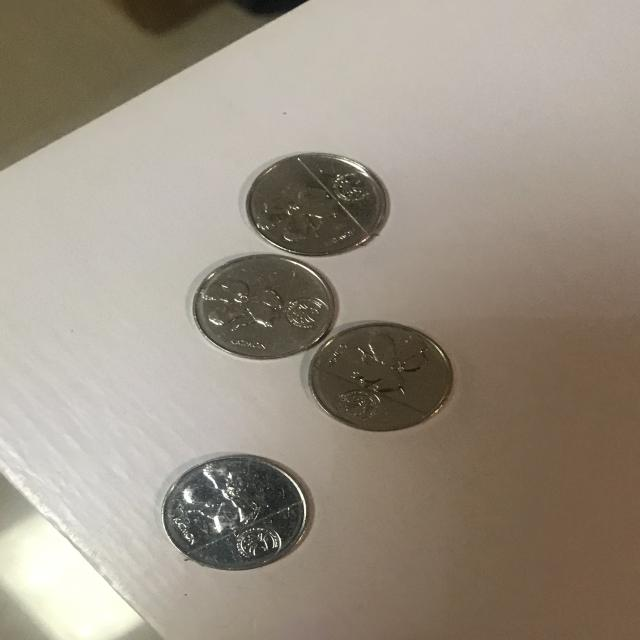25Cent_New_Back: (256, 161, 372, 245), (334, 338, 442, 409), (214, 275, 307, 350)
